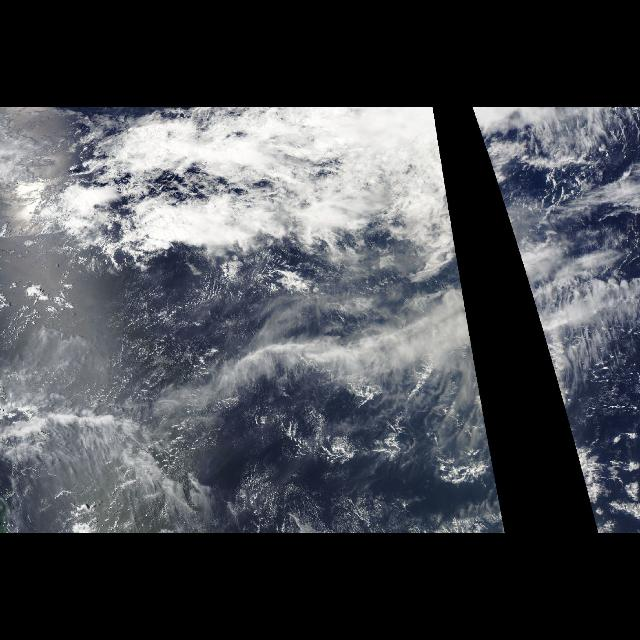Sugar: (2, 269, 506, 533), (522, 269, 640, 533)
